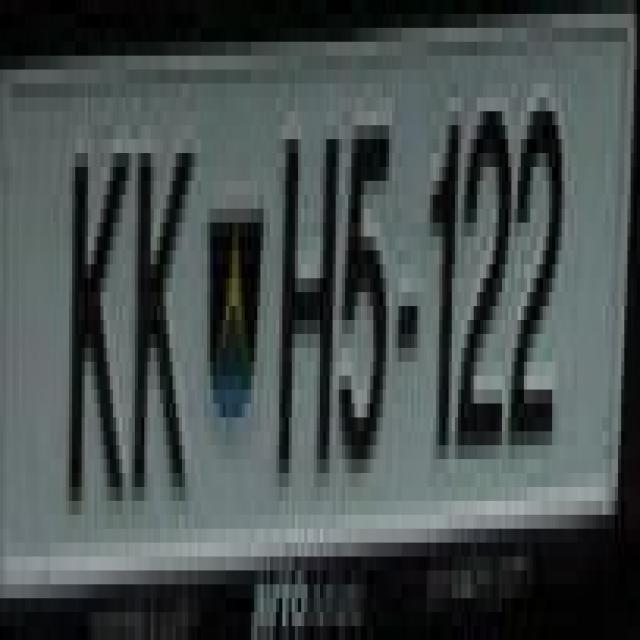1: (426, 84, 452, 473)
2: (512, 98, 558, 446), (464, 84, 502, 418)
5: (342, 111, 395, 459)
H: (273, 125, 336, 473)
K: (135, 153, 194, 501), (69, 153, 126, 501)
